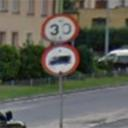speed_limit_30: (42, 13, 81, 44)
